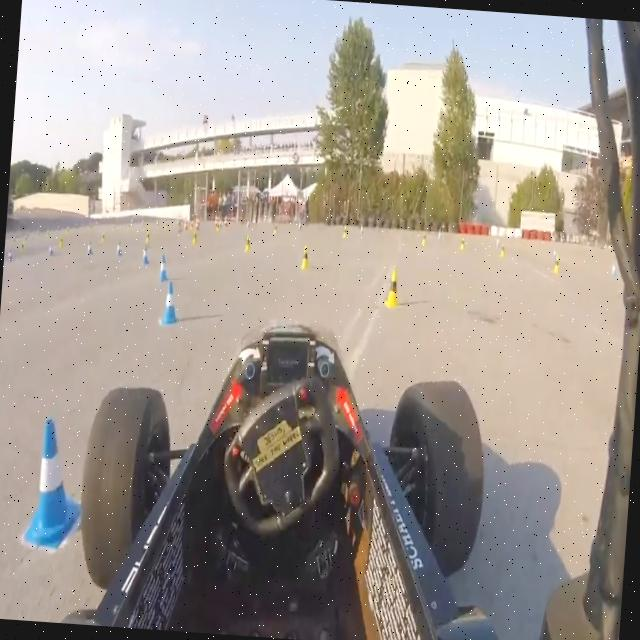blue_cone: (12, 413, 88, 558), (157, 280, 181, 330), (156, 250, 172, 282), (139, 243, 151, 268), (115, 239, 124, 261), (86, 238, 94, 258), (6, 246, 13, 263), (551, 245, 557, 262), (47, 245, 54, 259)
yellow_cone: (381, 266, 404, 312), (298, 244, 312, 273), (243, 233, 252, 256), (191, 229, 199, 250), (552, 256, 560, 276), (340, 224, 348, 242), (144, 230, 152, 247), (498, 243, 506, 260), (458, 237, 465, 253), (420, 232, 427, 248), (100, 229, 106, 244), (59, 236, 64, 249)
